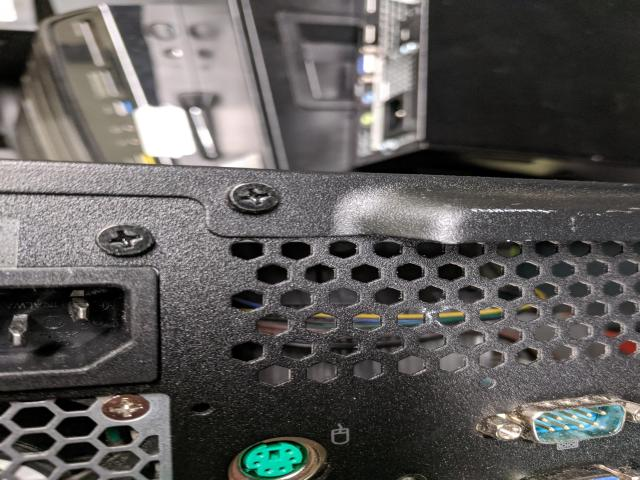CRS: (98, 224, 156, 257), (227, 182, 282, 212), (103, 393, 151, 422)
